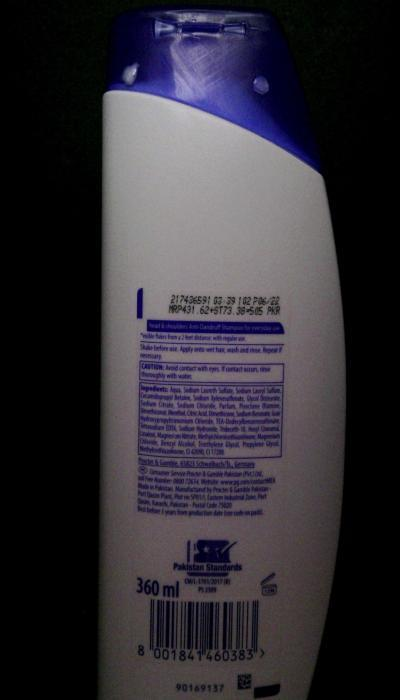pob_marg: (145, 12, 184, 49), (247, 68, 277, 101), (119, 64, 144, 92)
